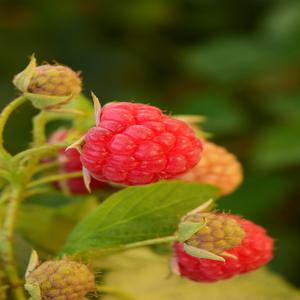raspb: (75, 101, 211, 190)
